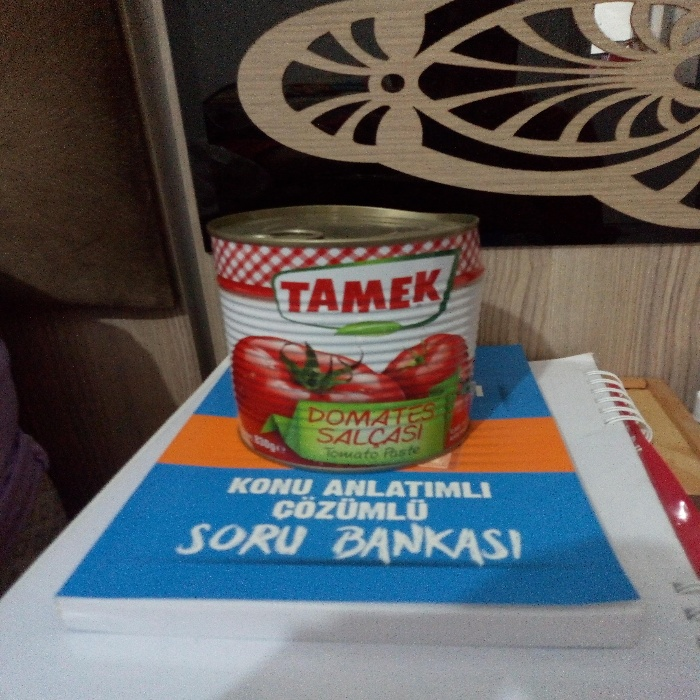salca: (199, 186, 505, 477)
